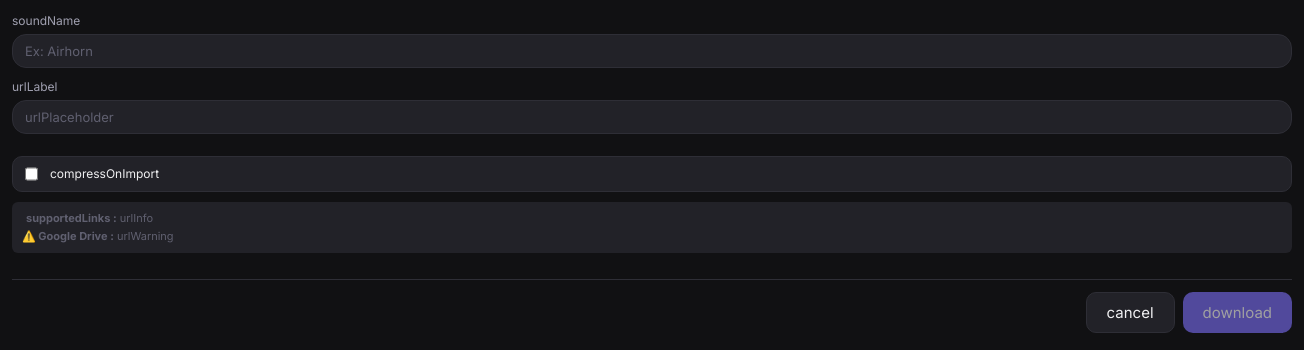
UrlTab › devrait activer download si url + urlName
The image size is (1304, 350).
Type "Mon son" into the field with placeholder "Ex: Airhorn".
click(652, 51); type("Mon son")  # box [12, 34, 1292, 68]
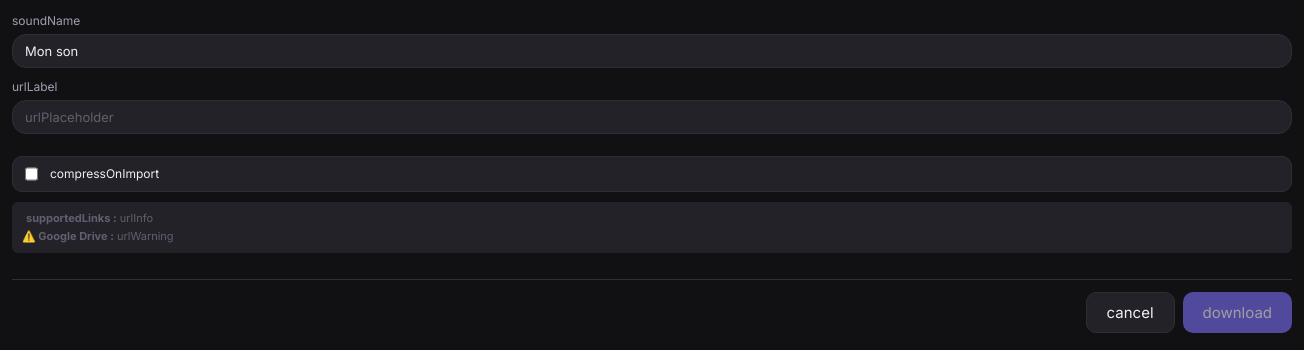
Type "https://x.mp3" into the field with placeholder "urlPlaceholder".
click(652, 117); type("https://x.mp3")  # box [12, 100, 1292, 134]
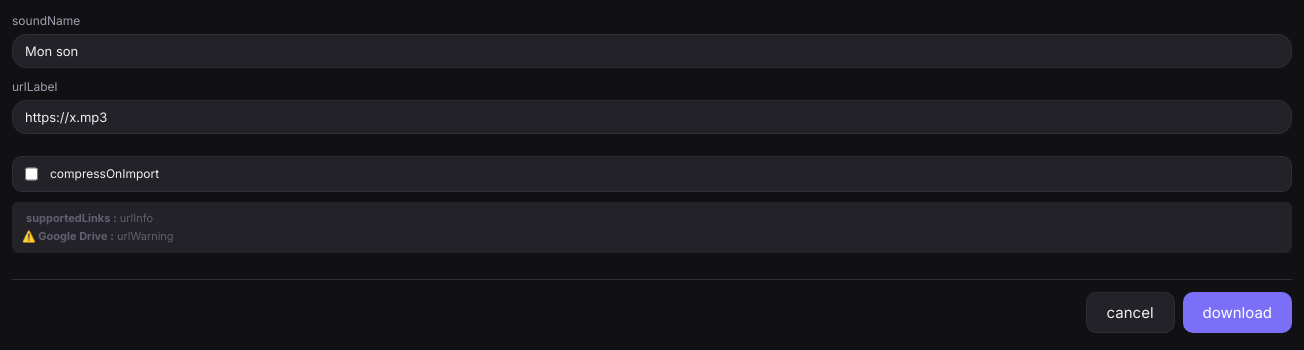
Check: the button "download" is enabled, box [1183, 292, 1292, 333]
